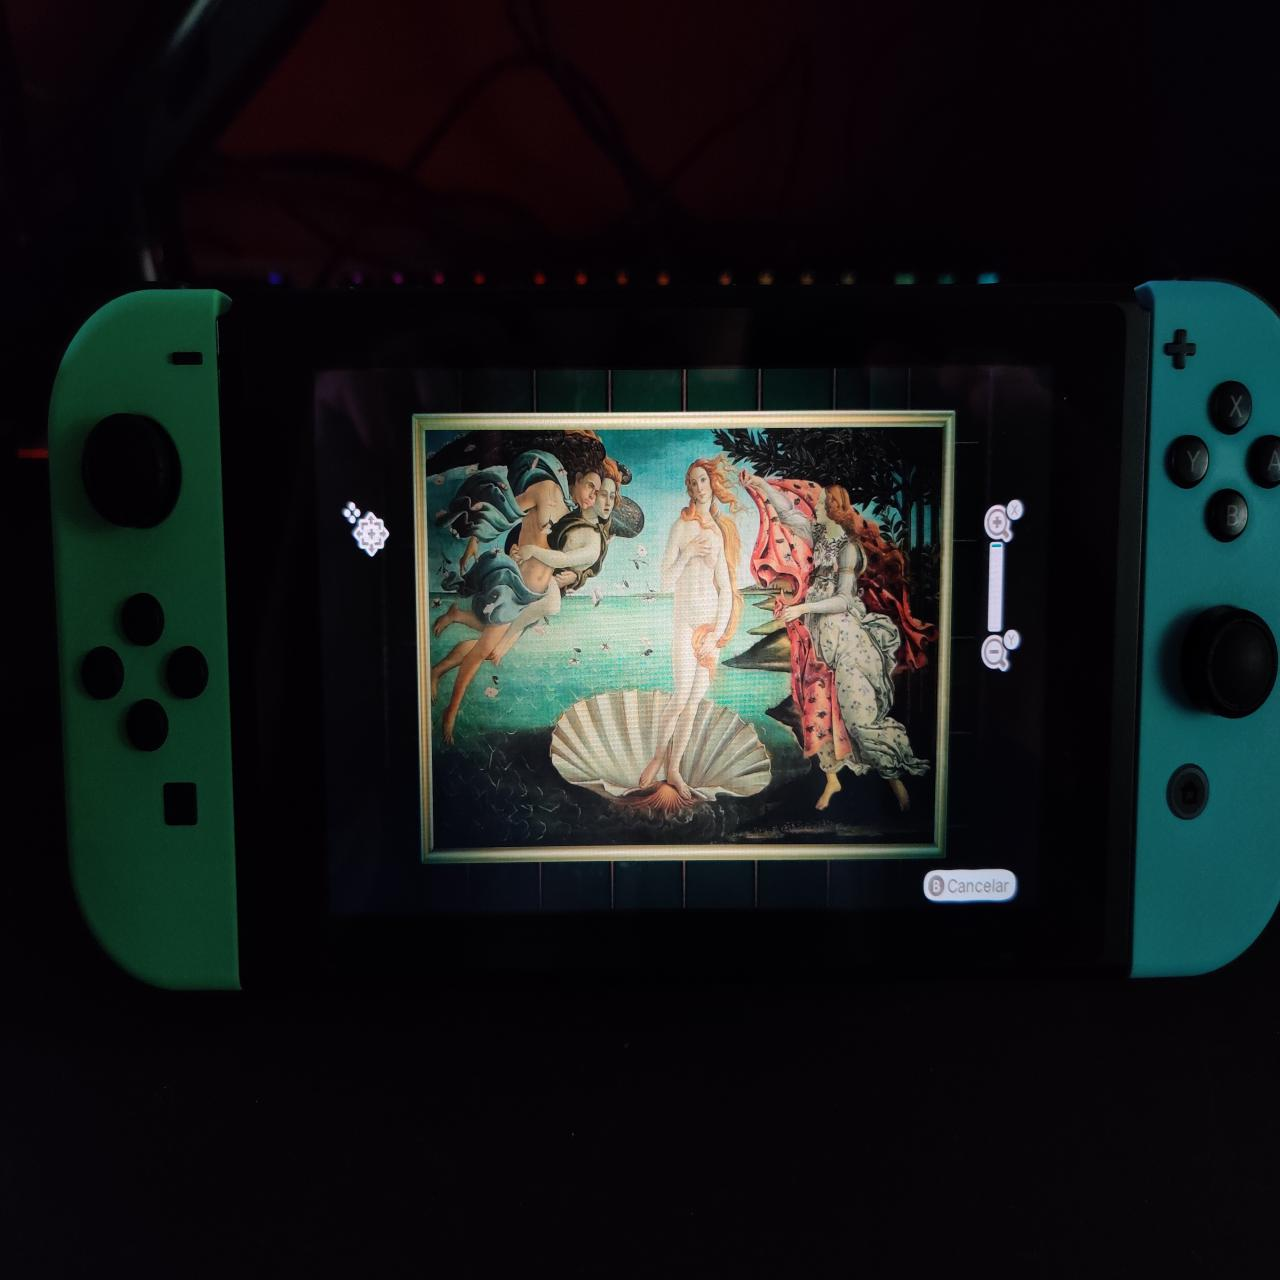BirthVenus: (427, 430, 939, 843)
